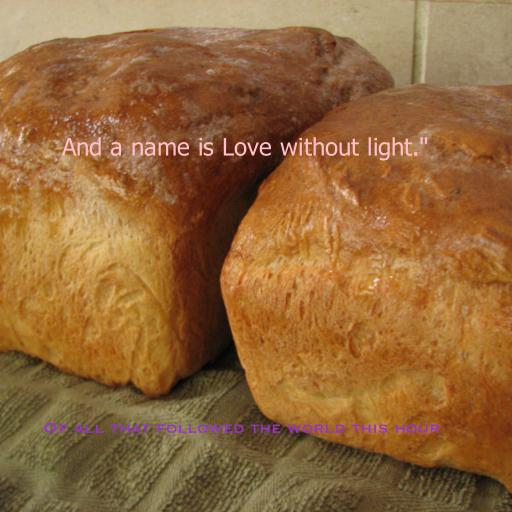Copperplate: (42, 422, 440, 434)
Tahoma: (61, 137, 429, 161)
